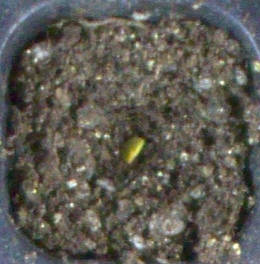chilli seed: (123, 136, 145, 164)
